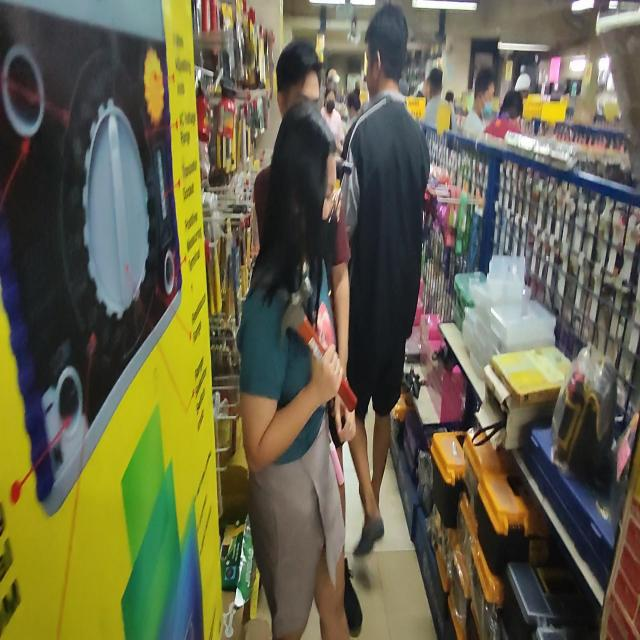hammer: (278, 276, 357, 410)
